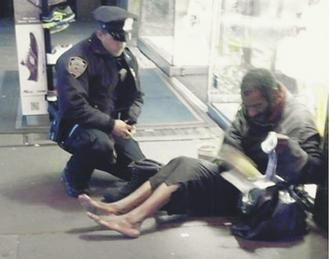fall: (80, 66, 311, 243)
